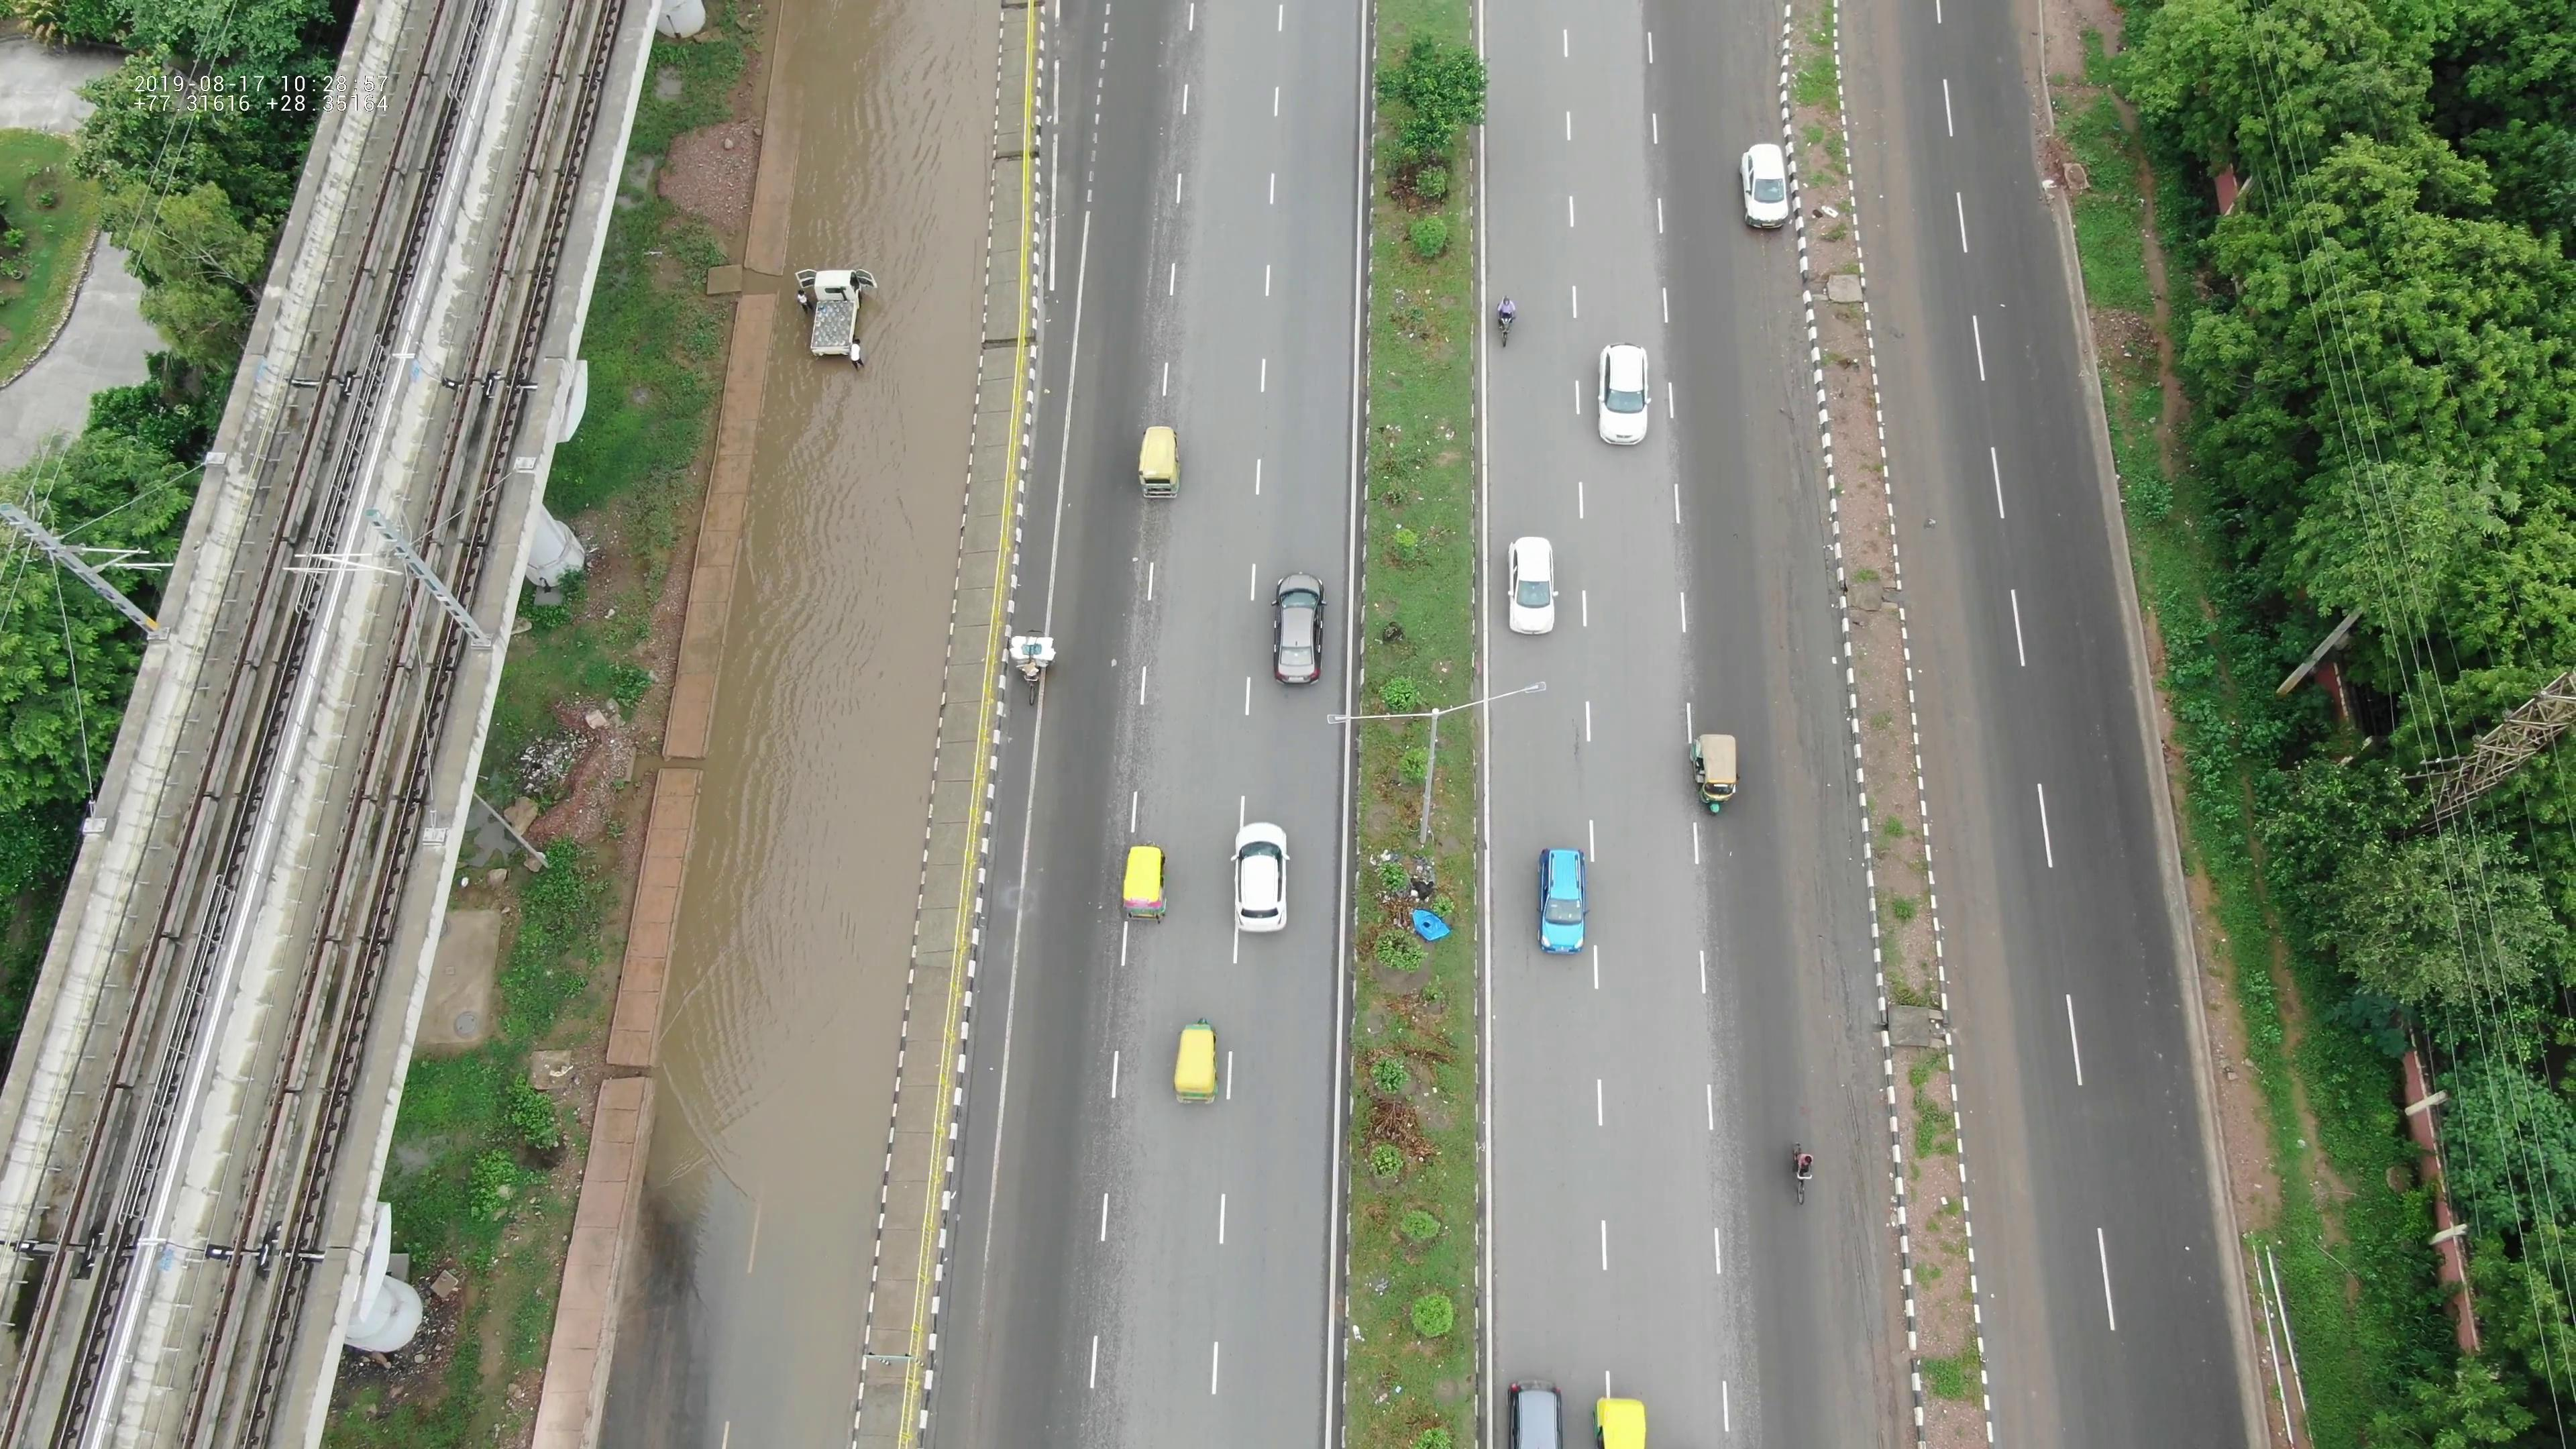Muddy_road: (1743, 341, 1849, 717), (1794, 755, 1884, 1146)
Ravelling: (1131, 16, 1217, 380), (1104, 517, 1192, 826)
Waterlogging: (637, 593, 950, 1210), (736, 0, 1001, 582)
